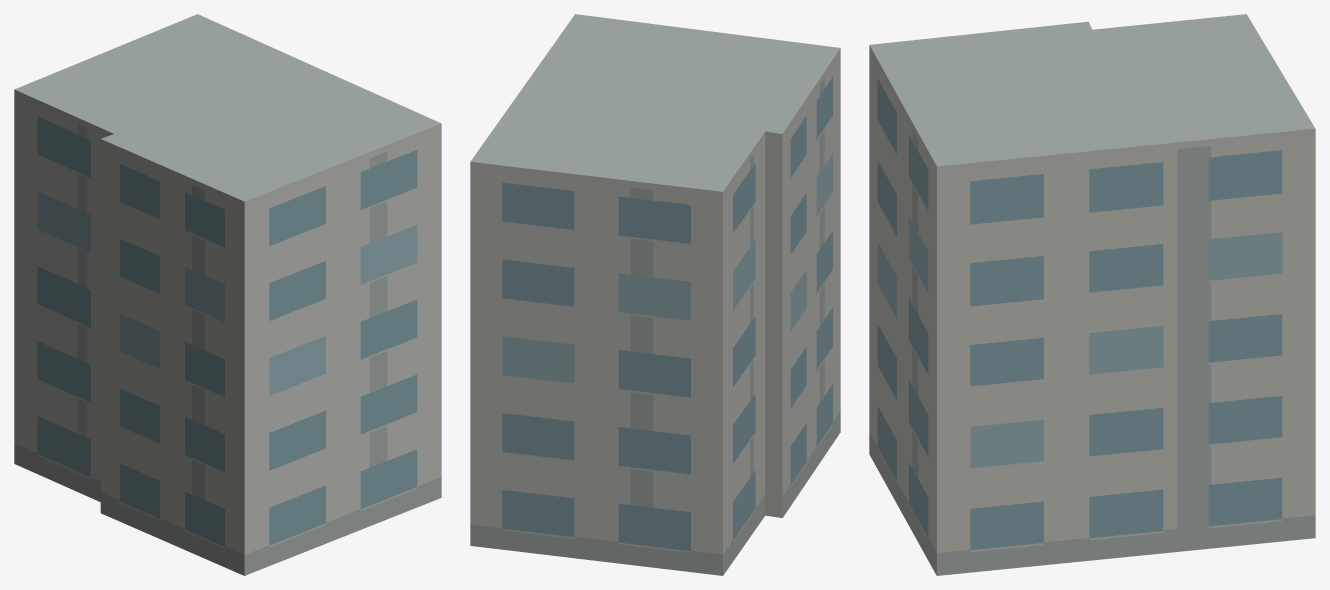
File: survey-upis-32909412.glb
3 renders of one model, left to right at view 1: azimuth 30°, elevation 25°; view 2: azimuth 150°, elevation 25°; view 3: azimuth 270°, elevation 25°, orthographic. The views are drawn at different scales.
Visible parts, largest first — view 1: survey-upis-32909412.tmp; view 2: survey-upis-32909412.tmp; view 3: survey-upis-32909412.tmp.
Boxes of the visible parts, x1,y1,x2,y2 form: survey-upis-32909412.tmp: (14, 14, 441, 575); survey-upis-32909412.tmp: (470, 14, 840, 575); survey-upis-32909412.tmp: (869, 14, 1315, 575).
Size of the model in its own units: 11.67 by 14.6 by 14.43.
